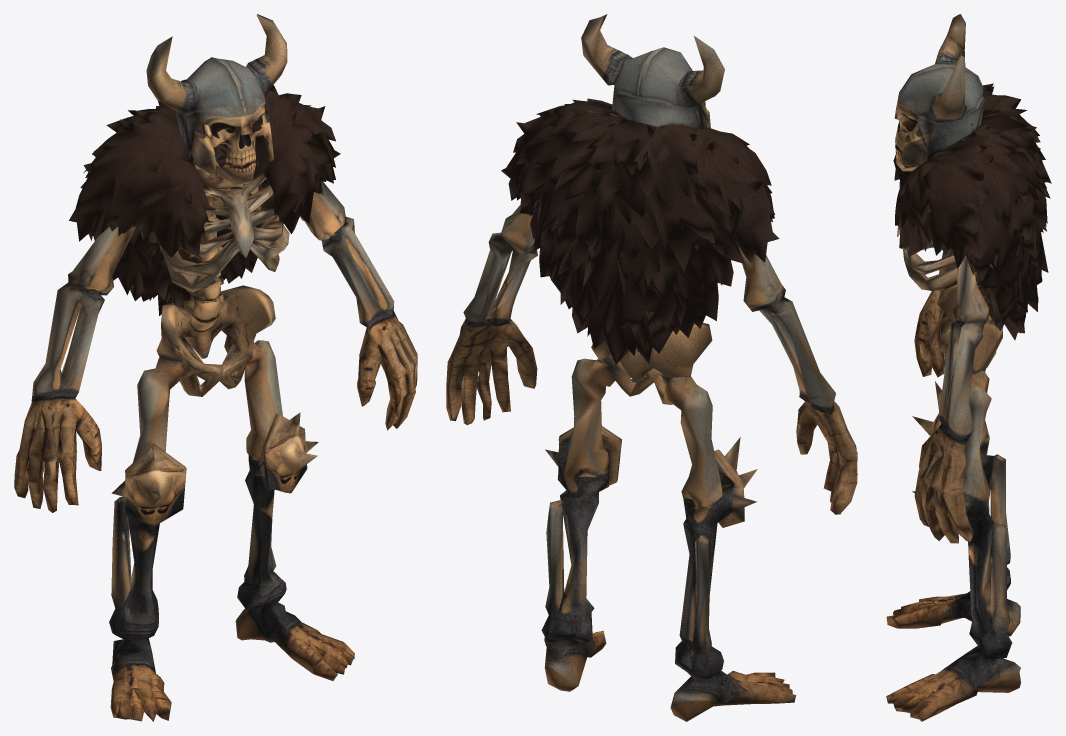
Rendered from MWT_SK_Horned.fbx.
3 views of the same model, side by side, from view 1: azimuth 30°, elevation 25°; view 2: azimuth 150°, elevation 25°; view 3: azimuth 270°, elevation 25° (orthographic). The views are drawn at different scales.
Parts seen in each view (by area): view 1: Mesh_0; view 2: Mesh_0; view 3: Mesh_0.
Boxes of the visible parts, bbox=[...] form: Mesh_0: bbox=[14, 14, 417, 721]; Mesh_0: bbox=[446, 14, 857, 721]; Mesh_0: bbox=[886, 14, 1051, 721].
Bounding box in the file's own units: 130 × 200 × 47.61.
Materials: 1 (1 with a texture image).
